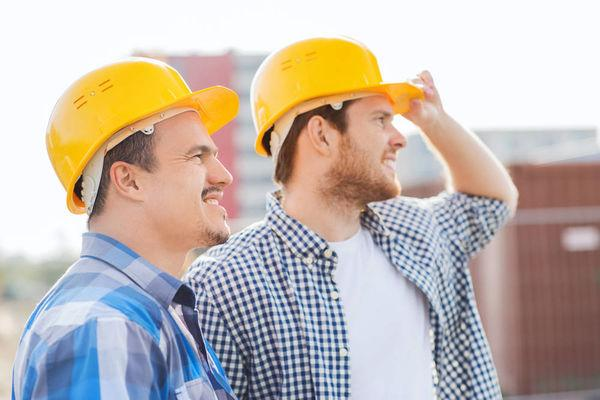helmet: (46, 57, 240, 209), (251, 36, 423, 146)
